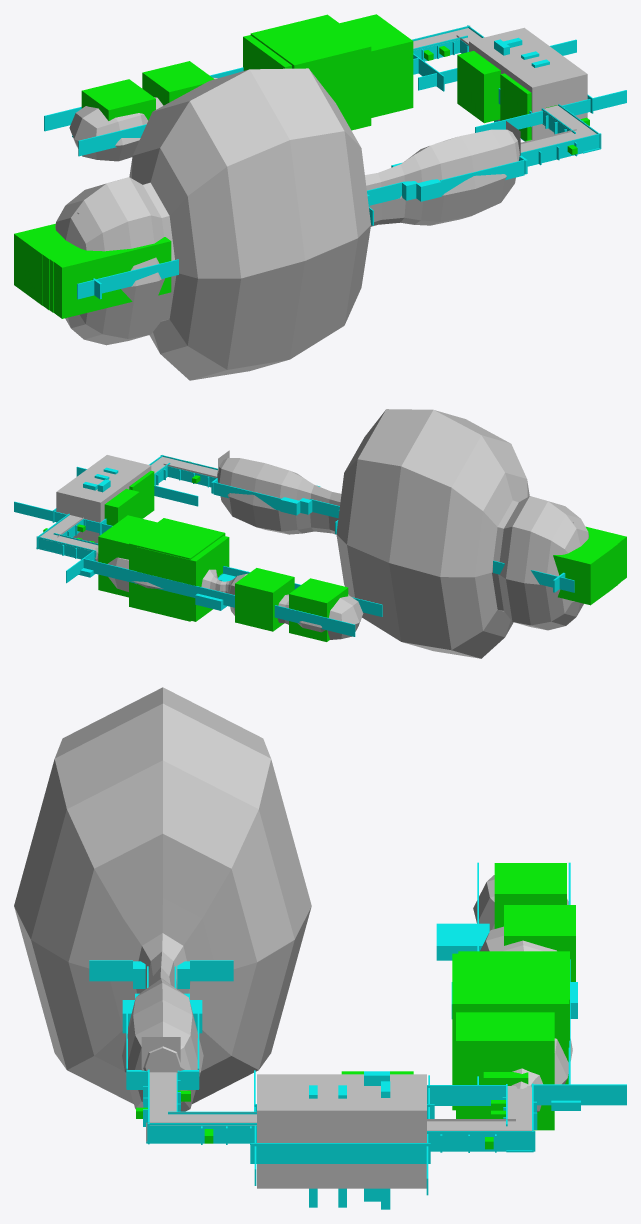
The model's file is level2.obj.
3 views of the same model, one above another, from view 1: azimuth 30°, elevation 25°; view 2: azimuth 150°, elevation 25°; view 3: azimuth 270°, elevation 25° (orthographic). The views are drawn at different scales.
Visible parts, largest first — view 1: Cube.057_Cube.065, Cube.250_Cube.243, Cube.056_Cube.062, Cube.267_Cube.260, Cube.251_Cube.244, Cube.257_Cube.250, Cube.055_Cube.061, Cube.207_Cube.007, Cube.247_Cube.217, Cube.266_Cube.259, Cube.275_Cube.269, Cube.264_Cube.257 (+12 smaller); view 2: Cube.057_Cube.065, Cube.248_Cube.241, Cube.056_Cube.062, Cube.250_Cube.243, Cube.269_Cube.262, Cube.247_Cube.217, Cube.055_Cube.061, Cube.266_Cube.259, Cube.207_Cube.007, Cube.251_Cube.244, Cube.257_Cube.250, Cube.259_Cube.252 (+12 smaller); view 3: Cube.057_Cube.065, Cube.056_Cube.062, Cube.250_Cube.243, Cube.251_Cube.244, Cube.270_Cube.263, Cube.207_Cube.007, Cube.247_Cube.217, Cube.055_Cube.061, Cube.123_Cube.117, Cube.244_Cube.118, Cube.124_Cube.160, Cube.282_Cube.275 (+8 smaller).
Boxes of the visible parts, box(x1,y1,x2,y2) form: Cube.057_Cube.065: box(55, 68, 519, 380); Cube.250_Cube.243: box(250, 14, 371, 130); Cube.056_Cube.062: box(469, 27, 587, 139); Cube.267_Cube.260: box(51, 237, 171, 318); Cube.251_Cube.244: box(340, 14, 413, 117); Cube.257_Cube.250: box(457, 51, 500, 123); Cube.055_Cube.061: box(69, 77, 217, 161); Cube.207_Cube.007: box(81, 79, 155, 120); Cube.247_Cube.217: box(142, 61, 214, 105); Cube.266_Cube.259: box(14, 223, 55, 305); Cube.275_Cube.269: box(77, 259, 178, 299); Cube.264_Cube.257: box(21, 230, 84, 310); Cube.057_Cube.065: box(217, 409, 588, 658); Cube.248_Cube.241: box(137, 535, 229, 621); Cube.056_Cube.062: box(56, 455, 151, 543); Cube.250_Cube.243: box(129, 518, 225, 621); Cube.269_Cube.262: box(83, 558, 355, 636); Cube.247_Cube.217: box(235, 568, 294, 631); Cube.055_Cube.061: box(95, 547, 363, 639); Cube.266_Cube.259: box(553, 548, 613, 605); Cube.207_Cube.007: box(289, 578, 348, 641); Cube.251_Cube.244: box(98, 515, 157, 597); Cube.257_Cube.250: box(104, 488, 139, 525); Cube.259_Cube.252: box(129, 470, 154, 518); Cube.057_Cube.065: box(14, 687, 311, 1111); Cube.056_Cube.062: box(257, 1074, 426, 1188); Cube.250_Cube.243: box(452, 953, 569, 1110); Cube.251_Cube.244: box(456, 1012, 554, 1130); Cube.270_Cube.263: box(250, 1143, 430, 1163); Cube.207_Cube.007: box(494, 863, 566, 928); Cube.247_Cube.217: box(504, 905, 575, 981); Cube.055_Cube.061: box(473, 875, 572, 1112); Cube.123_Cube.117: box(427, 1130, 535, 1151); Cube.244_Cube.118: box(531, 1084, 626, 1105); Cube.124_Cube.160: box(147, 1123, 256, 1141); Cube.282_Cube.275: box(436, 923, 489, 960).
Size of the model in its own units: 235 by 106 by 145.
